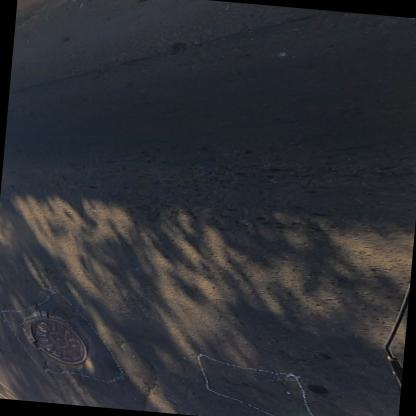manholes: (12, 304, 105, 376)
